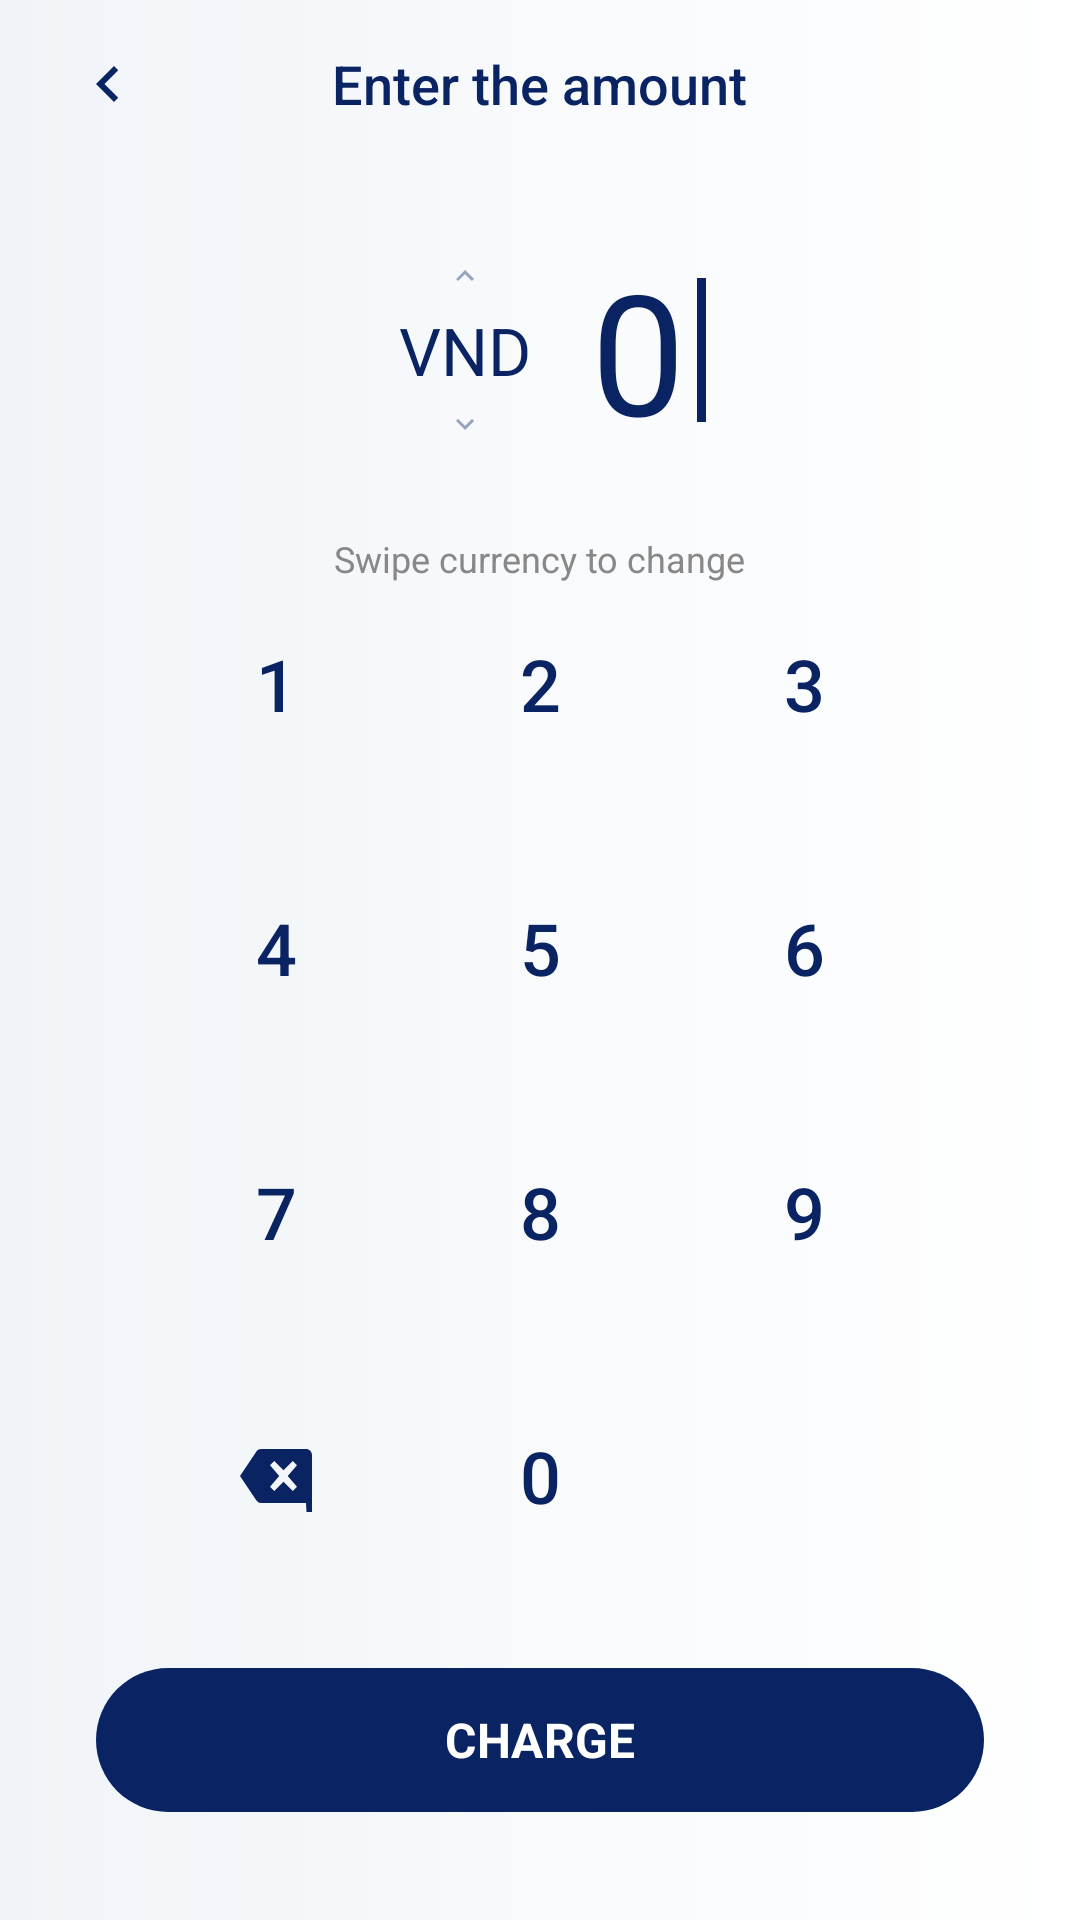

Screen size 1080px x 1920px. Icon name, then its center in pixels as (x=x, y=y):
Back: (x=107, y=84)
Delete: (x=276, y=1480)
